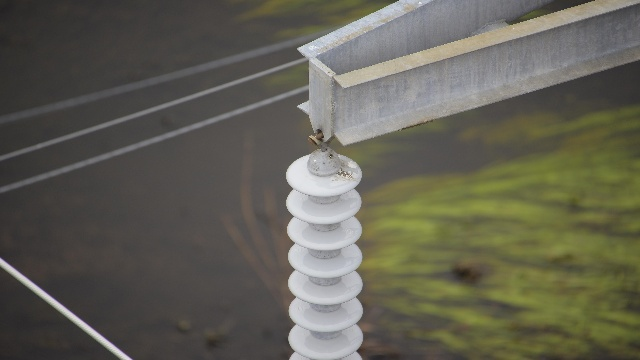insulator_unspecified: (285, 153, 365, 359)
pollution_flashover_local: (328, 156, 364, 187)
